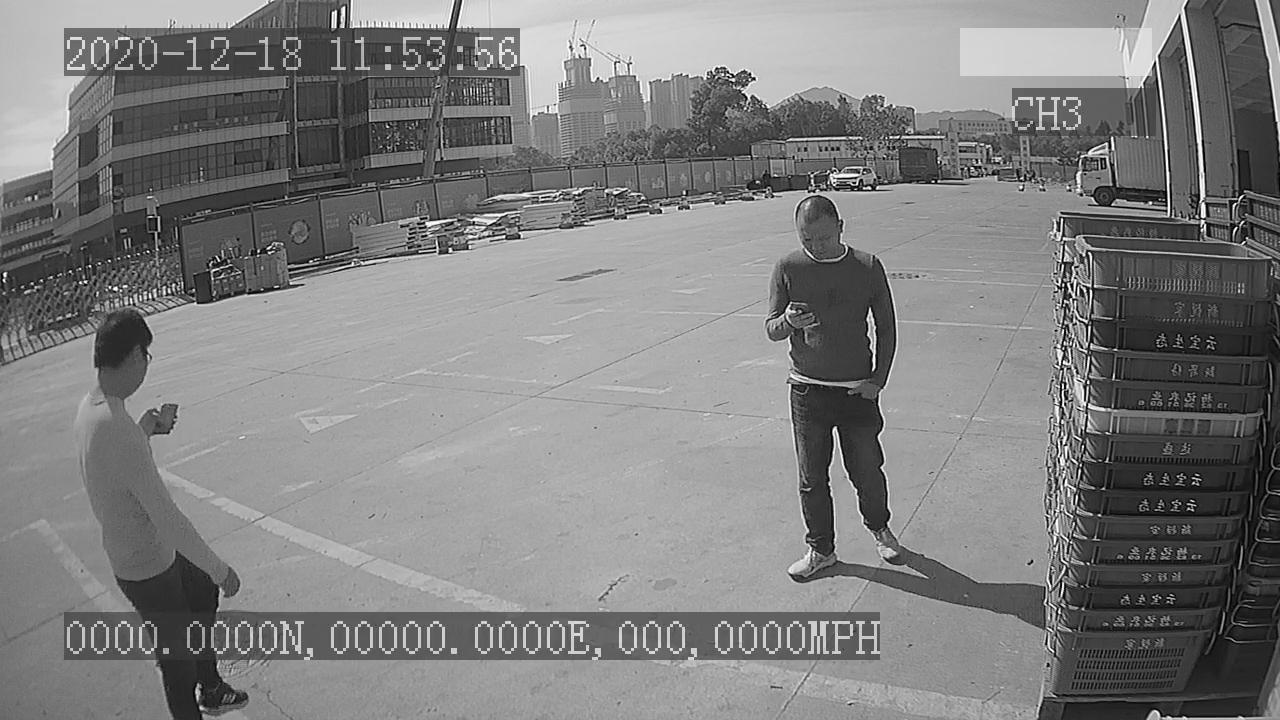person: (751, 188, 908, 583)
